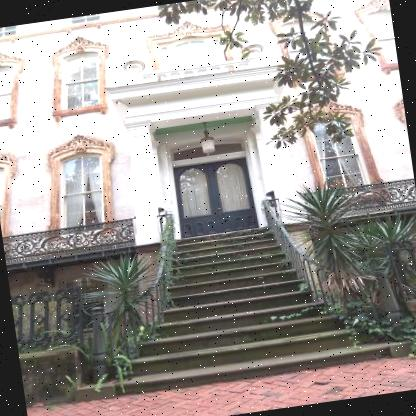door: (165, 131, 261, 243)
stair: (129, 212, 336, 403)
